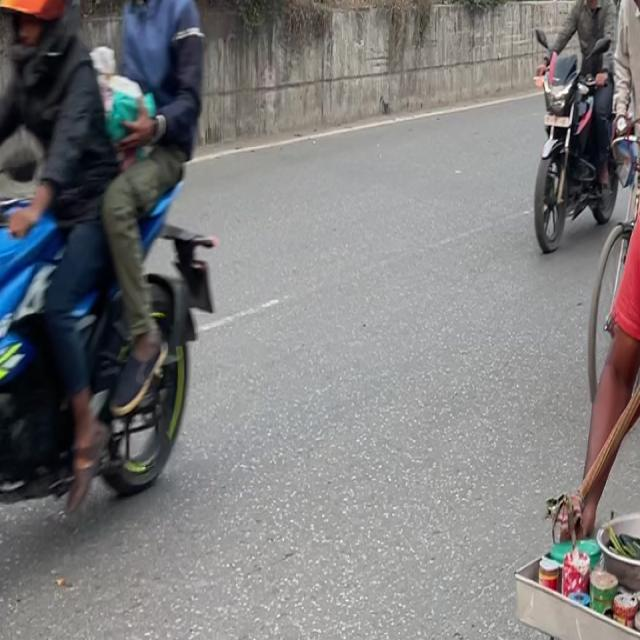motorbike: (0, 0, 225, 479), (521, 0, 625, 251)
